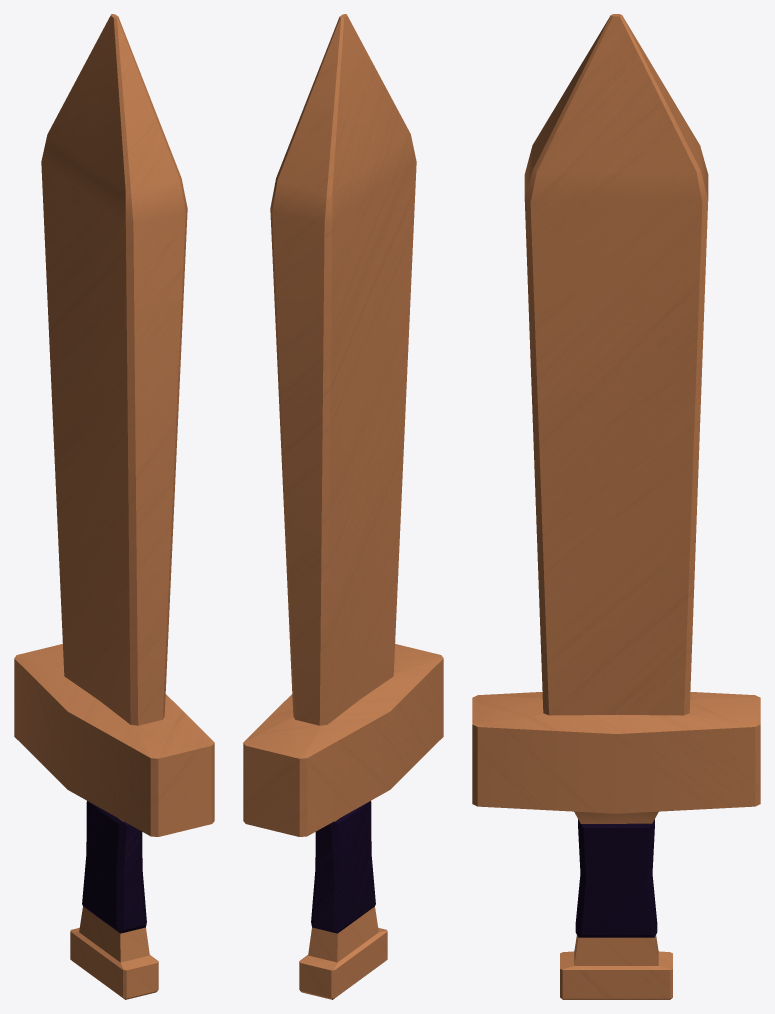
Rendered from SwordC.fbx.
3 renders of one model, left to right at view 1: azimuth 30°, elevation 25°; view 2: azimuth 150°, elevation 25°; view 3: azimuth 270°, elevation 25°, orthographic.
Visible parts, largest first — view 1: sword C; view 2: sword C; view 3: sword C.
Part boxes in pixels (x1,y1,x2,y2): sword C: (14, 14, 214, 999); sword C: (243, 14, 443, 999); sword C: (472, 14, 760, 999).
Bounding box in the file's own units: 0.1407 × 1.39 × 0.3716.
